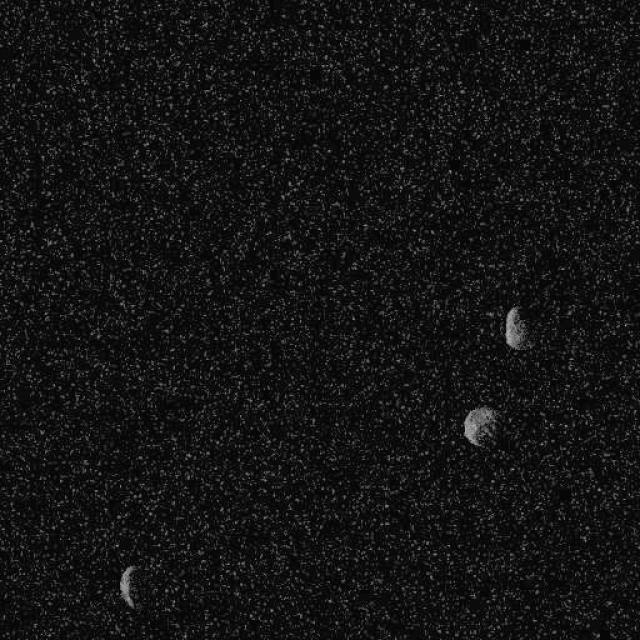D2: (461, 405, 500, 449), (504, 304, 530, 350), (118, 564, 136, 608)
